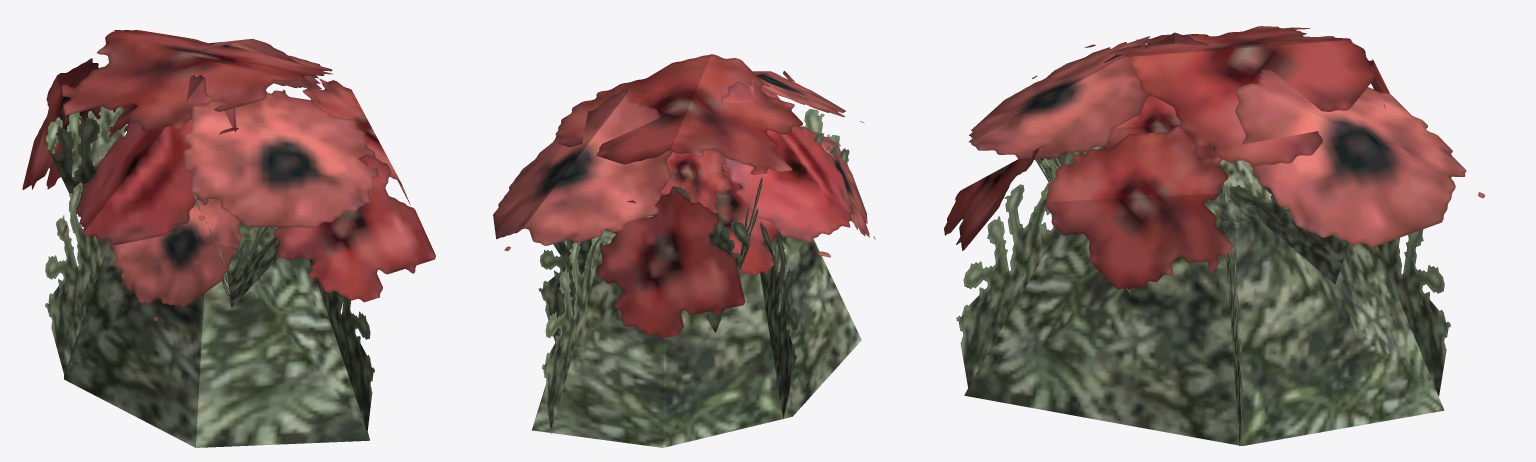
Rendered from C4SNPOPPIES.obj.
3 views of the same model, side by side, from view 1: azimuth 30°, elevation 25°; view 2: azimuth 150°, elevation 25°; view 3: azimuth 270°, elevation 25° (orthographic). The views are drawn at different scales.
Parts seen in each view (by area): view 1: Node 0; view 2: Node 0; view 3: Node 0.
Boxes of the visible parts, bbox=[...] form: Node 0: bbox=[22, 30, 435, 447]; Node 0: bbox=[493, 54, 875, 447]; Node 0: bbox=[944, 26, 1484, 445].
Size of the model in its own units: 3.53 by 3.33 by 4.57.
1 material, 1 textured.
